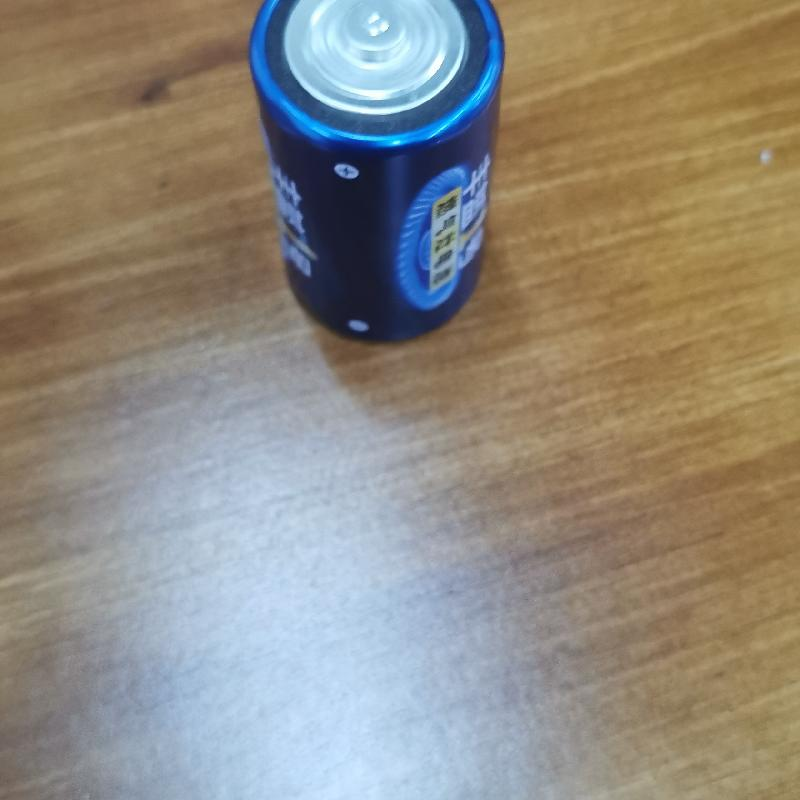battery: (244, 0, 501, 346)
